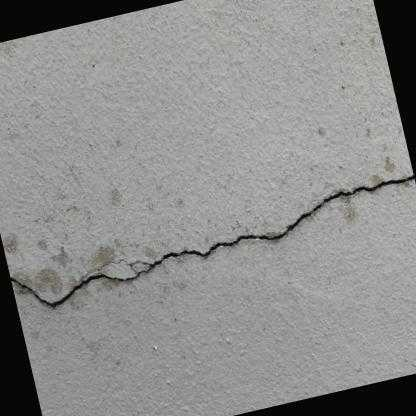crack: (10, 175, 415, 308)
